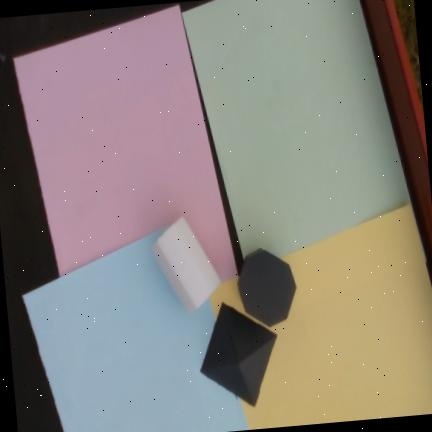Piramide: (200, 301, 277, 408)
Prisma_hexagonal: (150, 215, 222, 315), (237, 248, 297, 327)
